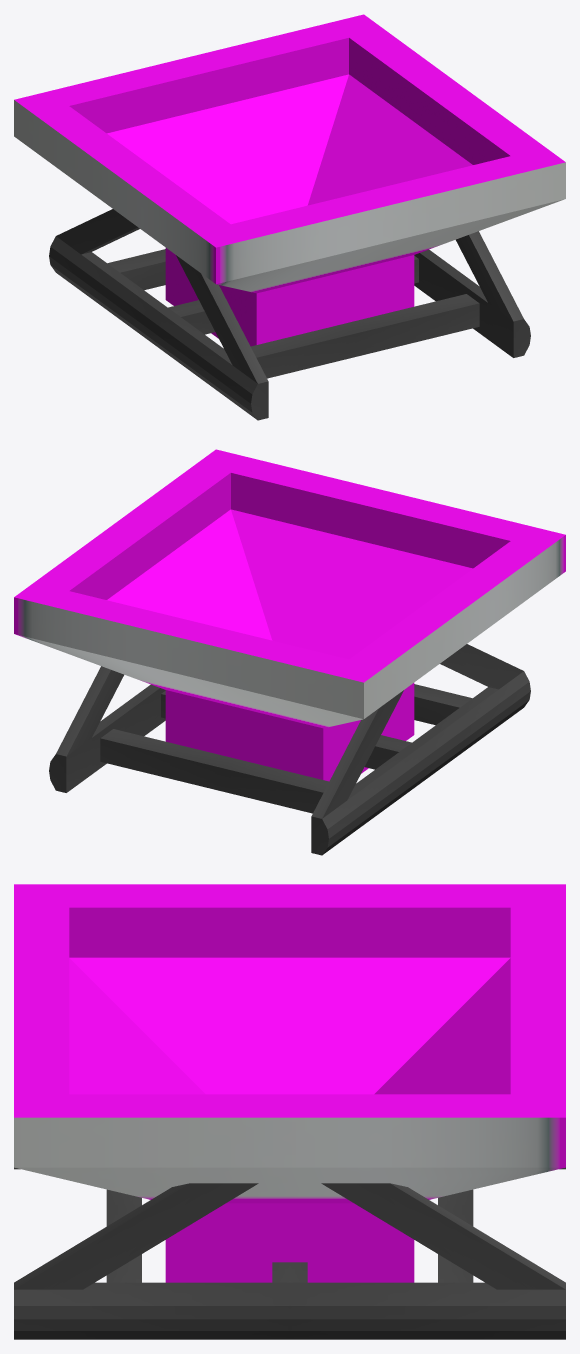
File: conveyor_hopper_hs.obj
3 renders of one model, top to bottom at view 1: azimuth 30°, elevation 25°; view 2: azimuth 150°, elevation 25°; view 3: azimuth 270°, elevation 25°, orthographic. The views are drawn at different scales.
Parts seen in each view (by area): view 1: ConveyorHopperHighSpeed_chmdl_hs, Support_Alu_smdl_alu; view 2: ConveyorHopperHighSpeed_chmdl_hs, Support_Alu_smdl_alu; view 3: ConveyorHopperHighSpeed_chmdl_hs, Support_Alu_smdl_alu.
Part boxes in pixels (bbox=[...]): ConveyorHopperHighSpeed_chmdl_hs: bbox=[14, 14, 565, 346]; Support_Alu_smdl_alu: bbox=[49, 209, 530, 420]; ConveyorHopperHighSpeed_chmdl_hs: bbox=[14, 449, 565, 781]; Support_Alu_smdl_alu: bbox=[49, 644, 530, 855]; ConveyorHopperHighSpeed_chmdl_hs: bbox=[14, 884, 565, 1282]; Support_Alu_smdl_alu: bbox=[14, 1167, 565, 1339].
Size of the model in its own units: 1 by 0.5 by 1.
